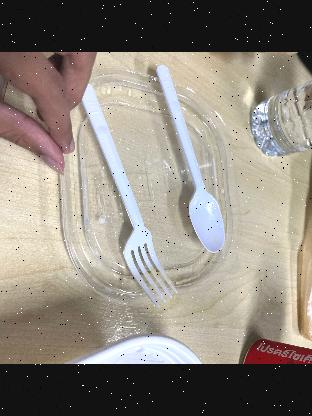Others: (79, 84, 183, 300), (140, 55, 232, 261)
